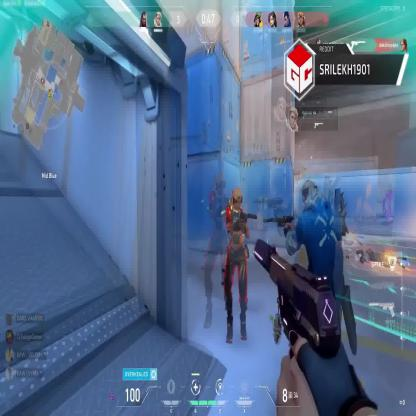enemy: (223, 188, 258, 343)
enemy_head: (232, 188, 242, 211)
